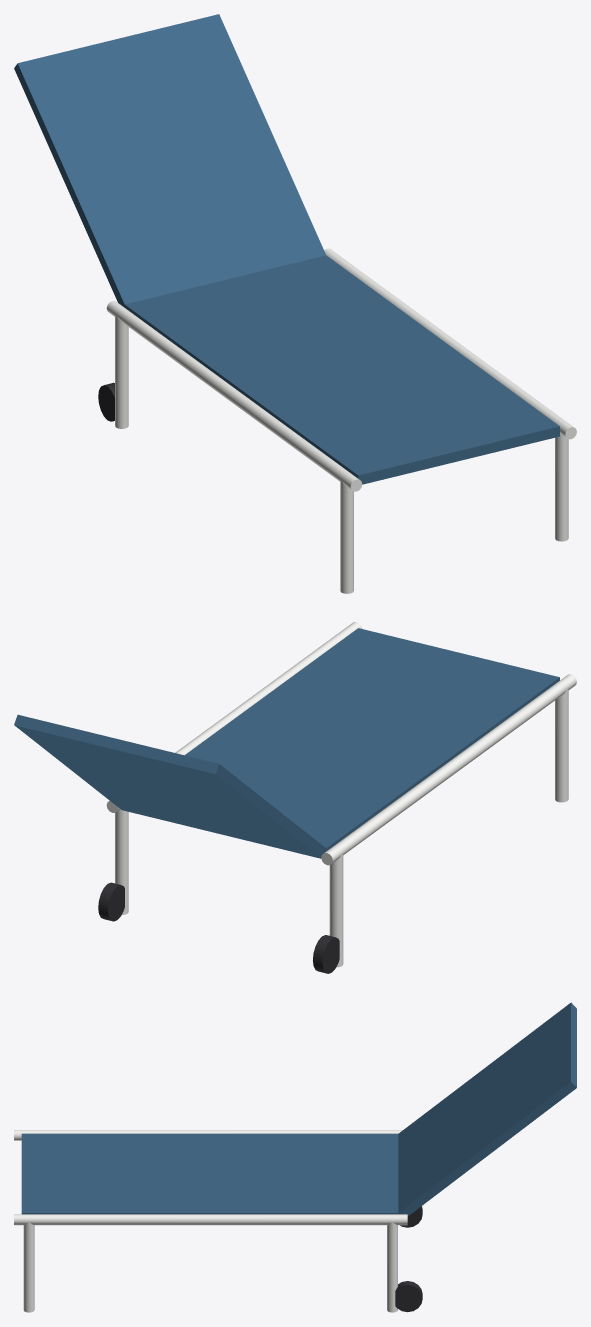
Rendered from hotel-pool-chaise.glb.
The picture shows the model from 3 angles, top to bottom: view 1: azimuth 30°, elevation 25°; view 2: azimuth 150°, elevation 25°; view 3: azimuth 270°, elevation 25°; orthographic projection. The views are drawn at different scales.
Parts seen in each view (by area): view 1: back, seat, rail, rail.001, leg, leg.001, leg.002; view 2: seat, back, rail, rail.001, leg, leg.001, leg.003, wheel.001, wheel; view 3: seat, back, rail.001, rail, leg.002, leg.003, wheel.
Part boxes in pixels (x1,y1,x2,y2): back: (14, 14, 325, 307); seat: (124, 255, 559, 484); rail: (106, 301, 362, 491); rail.001: (324, 248, 576, 439); leg: (340, 480, 353, 593); leg.001: (115, 316, 128, 428); leg.002: (555, 433, 568, 541); seat: (185, 628, 559, 851); back: (14, 714, 326, 858); rail: (321, 674, 576, 865); rail.001: (106, 622, 361, 812); leg: (555, 689, 568, 802); leg.001: (329, 854, 343, 967); leg.003: (115, 809, 128, 914); wheel.001: (313, 935, 339, 973); wheel: (98, 882, 124, 921); seat: (21, 1133, 399, 1214); back: (397, 1002, 576, 1216); rail.001: (14, 1214, 407, 1225); rail: (14, 1130, 402, 1140); leg.002: (23, 1222, 34, 1312); leg.003: (387, 1222, 397, 1312); wheel: (395, 1281, 422, 1312).
Bounding box in the file's own units: 0.696 × 0.8236 × 1.86.
